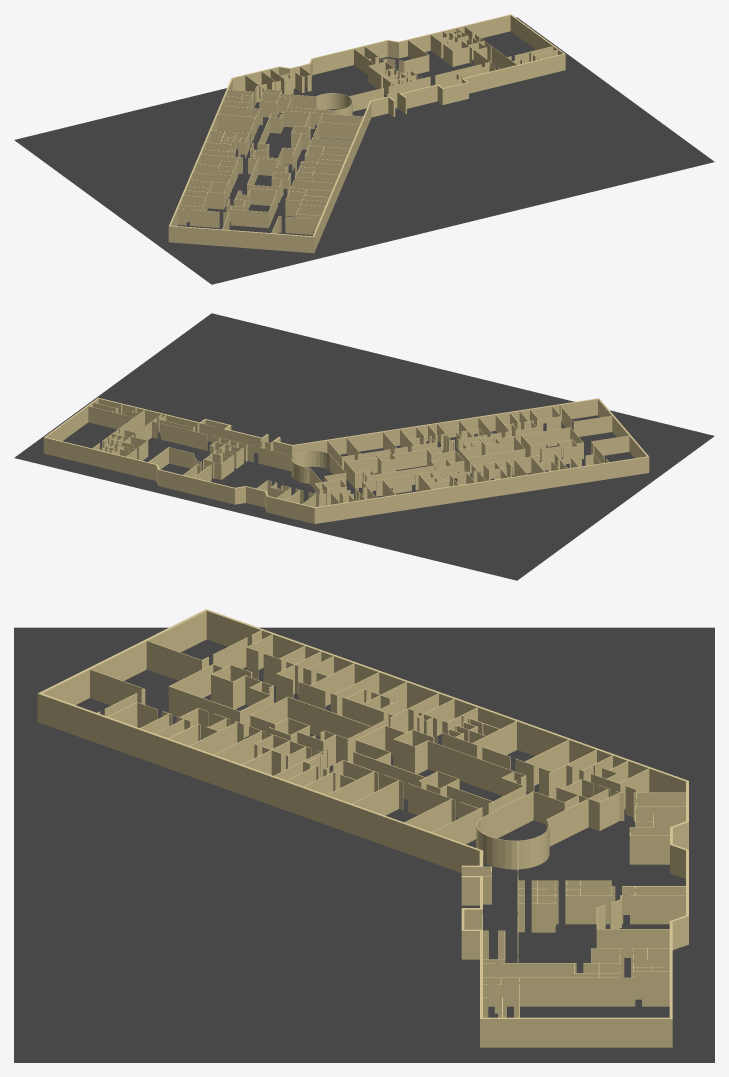
File: inno_3rd_floor.dae
The picture shows the model from 3 angles, top to bottom: view 1: azimuth 30°, elevation 25°; view 2: azimuth 150°, elevation 25°; view 3: azimuth 270°, elevation 25°; orthographic projection. The views are drawn at different scales.
Visible parts, largest first — view 1: Plane.001, Plane; view 2: Plane.001, Plane; view 3: Plane.001, Plane.
Boxes of the visible parts, box(x1,y1,x2,y2) form: Plane.001: box(14, 17, 714, 284); Plane: box(168, 14, 565, 253); Plane.001: box(14, 313, 714, 580); Plane: box(43, 397, 649, 523); Plane.001: box(14, 627, 714, 1062); Plane: box(37, 609, 688, 1047).
Size of the model in its own units: 93.18 by 63.44 by 2.91.
